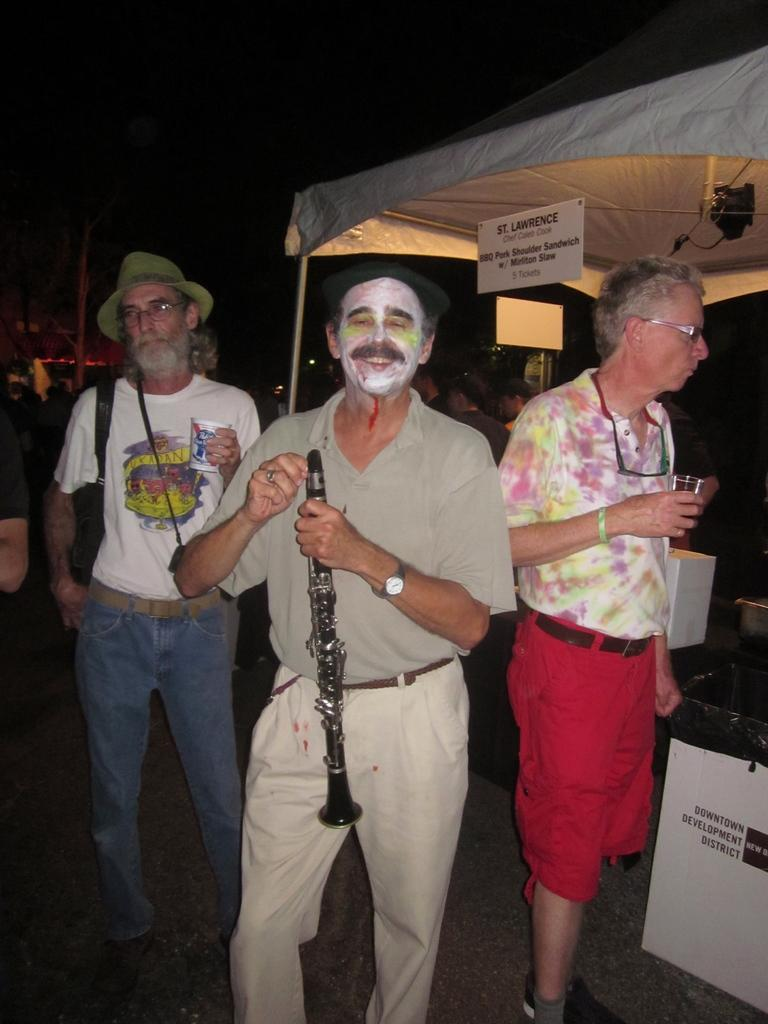Hat: (98, 253, 212, 349)
